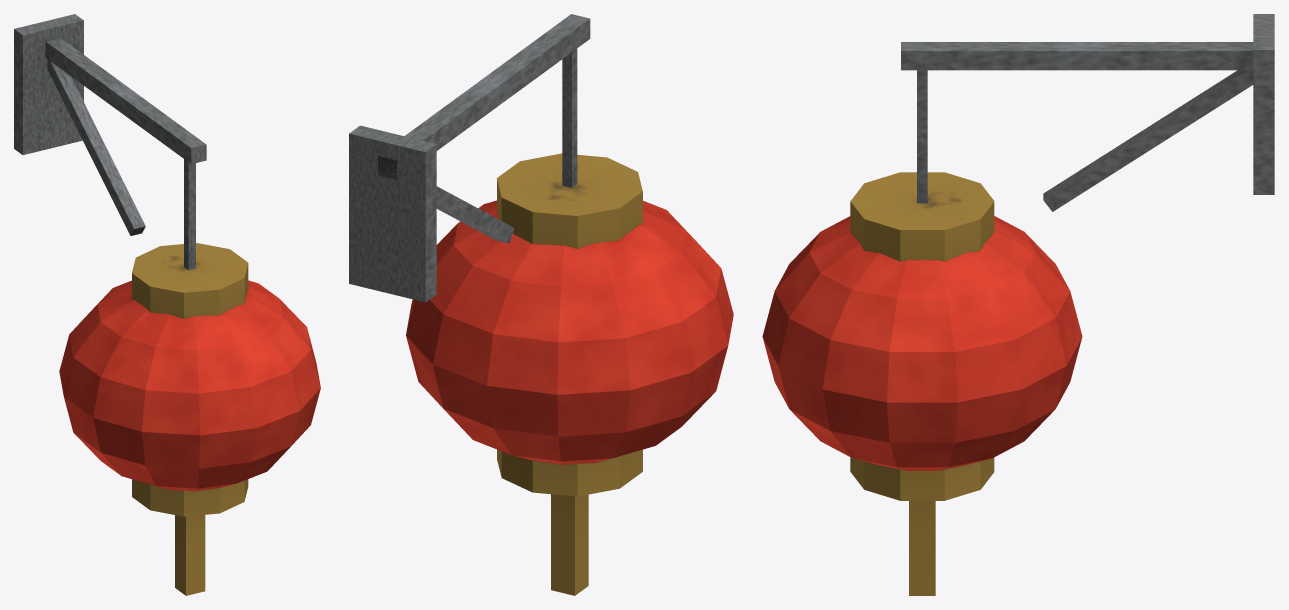
The model's file is city_lc_lantern.glb.
The picture shows the model from 3 angles, left to right: view 1: azimuth 30°, elevation 25°; view 2: azimuth 150°, elevation 25°; view 3: azimuth 270°, elevation 25°; orthographic projection. The views are drawn at different scales.
Visible parts, largest first — view 1: city_lc_lantern; view 2: city_lc_lantern; view 3: city_lc_lantern.
Part boxes in pixels (bbox=[...]): city_lc_lantern: bbox=[14, 14, 320, 595]; city_lc_lantern: bbox=[349, 14, 733, 595]; city_lc_lantern: bbox=[762, 14, 1274, 595].
Size of the model in its own units: 0.585 by 1.16 by 0.96.
3 materials, 3 textured.
